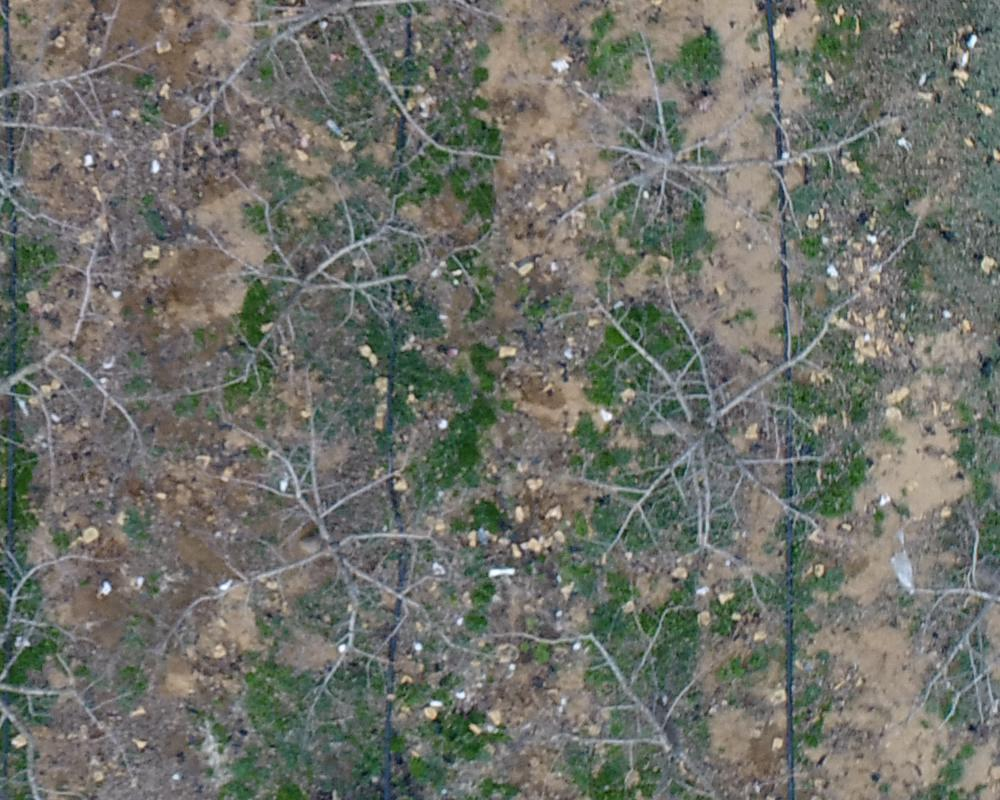apple: (544, 248, 913, 609), (517, 17, 929, 294), (181, 383, 490, 721), (165, 163, 485, 411), (491, 595, 803, 790), (173, 10, 516, 186), (888, 367, 990, 752)
